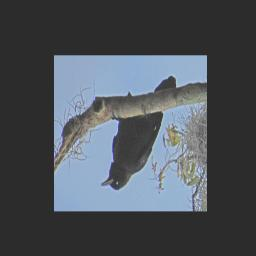Crow: (101, 75, 177, 190)
